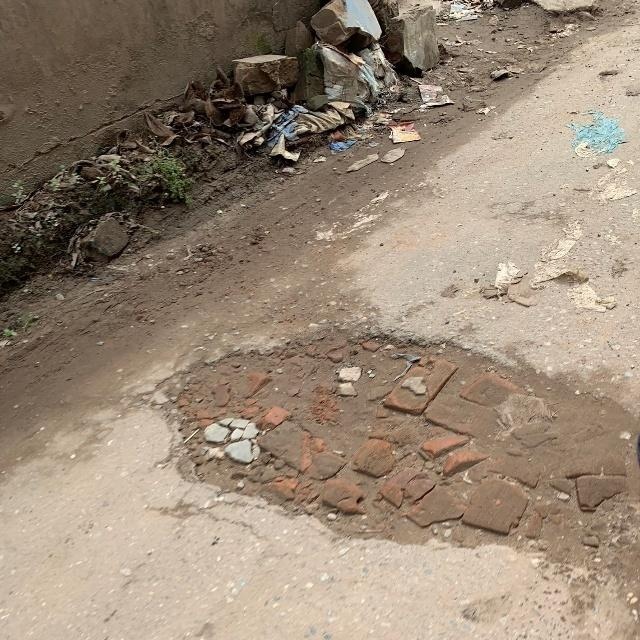Surface Erosion: (98, 221, 639, 640)
